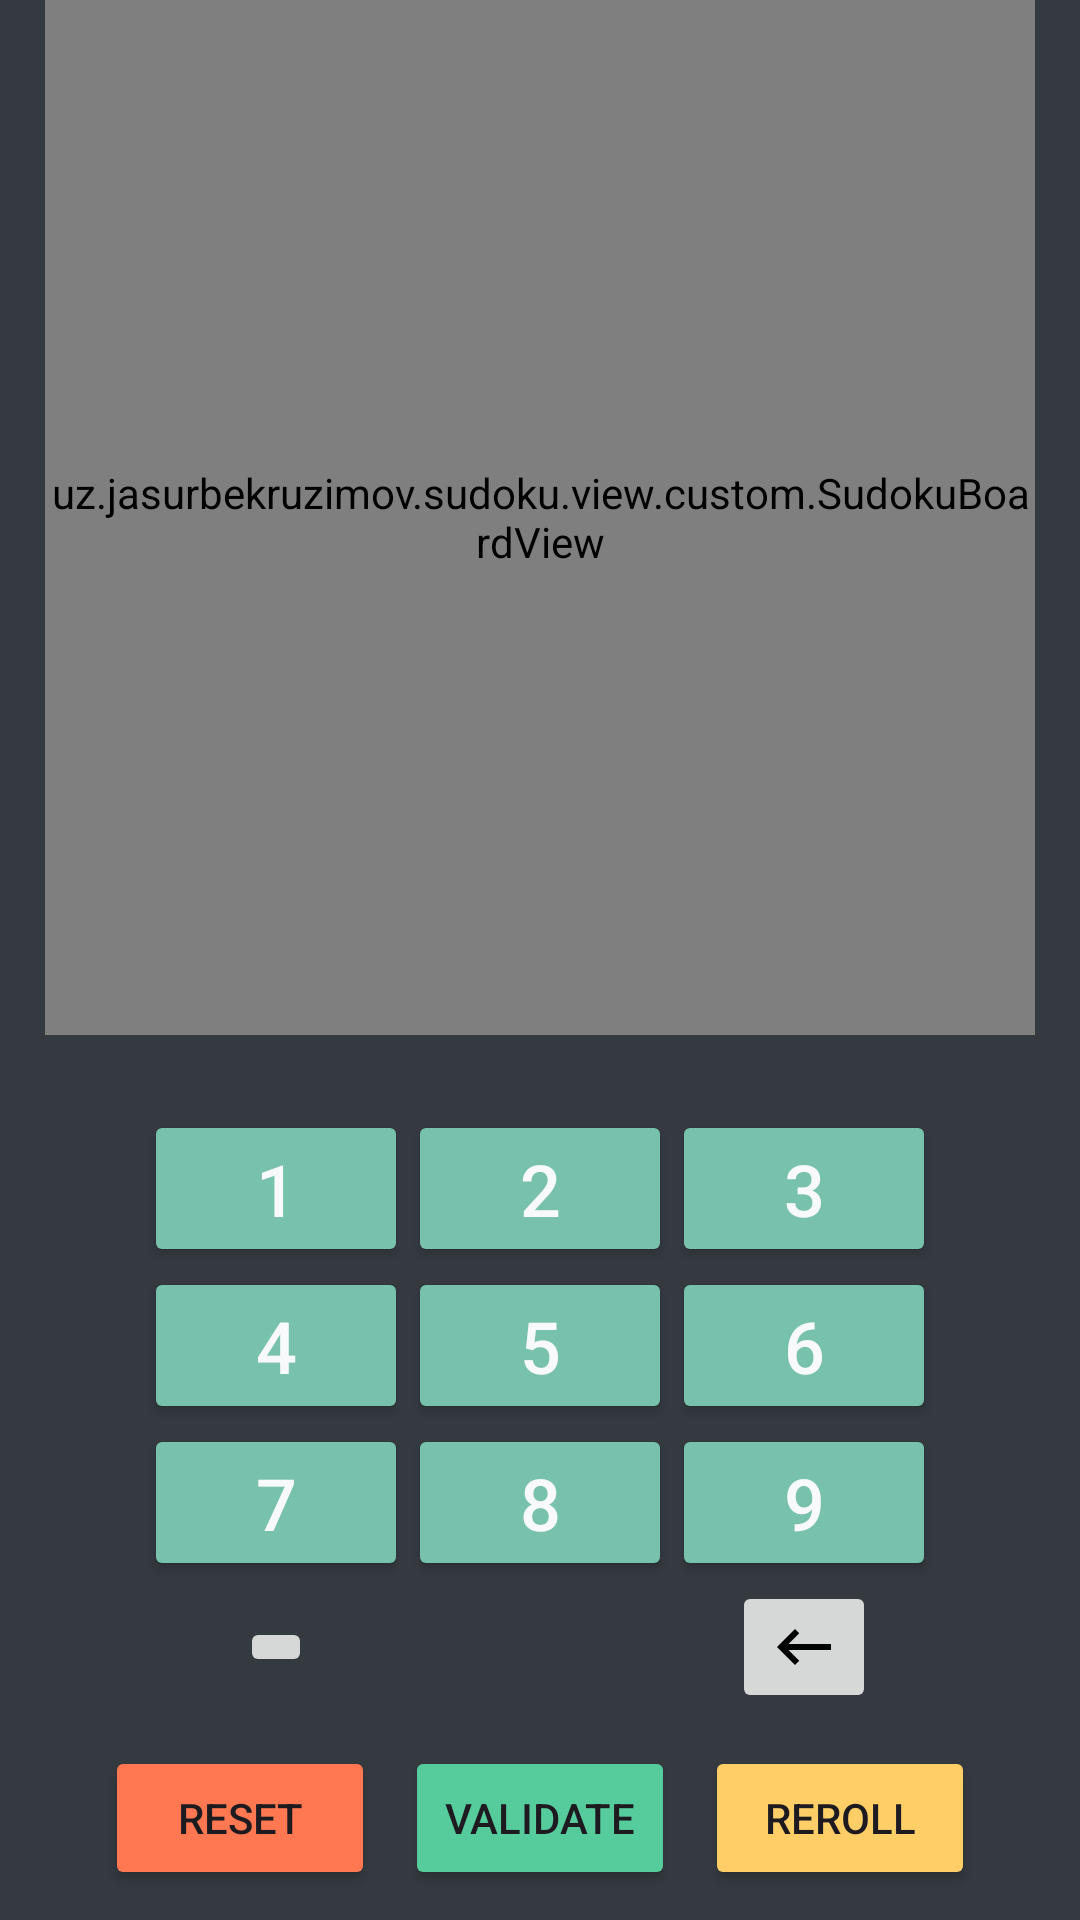

Icon bounding boxes for this 1080w x 1920h phone screenshot, format (x1, y1, x2, y2):
Clear: (744, 1599, 864, 1695)
